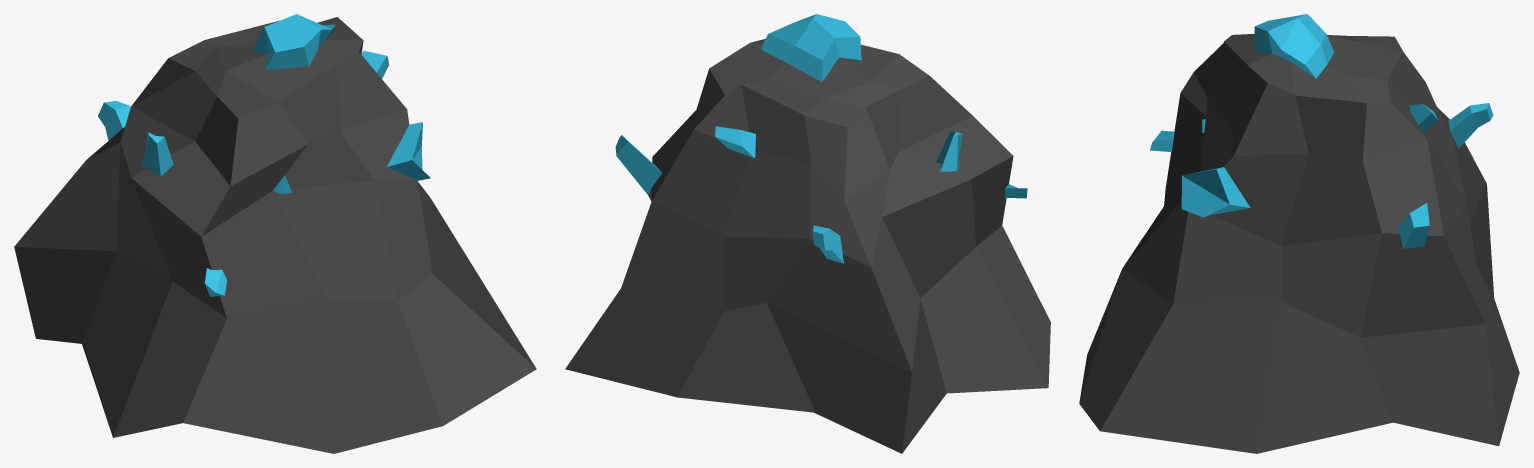
The model's file is Ore3.fbx.
The picture shows the model from 3 angles, left to right: view 1: azimuth 30°, elevation 25°; view 2: azimuth 150°, elevation 25°; view 3: azimuth 270°, elevation 25°; orthographic projection. The views are drawn at different scales.
Parts seen in each view (by area): view 1: Cube; view 2: Cube; view 3: Cube.
Part boxes in pixels (x1,y1,x2,y2): Cube: (14, 14, 536, 453); Cube: (565, 14, 1050, 453); Cube: (1079, 14, 1519, 453).
Size of the model in its own units: 358 by 367 by 331.
